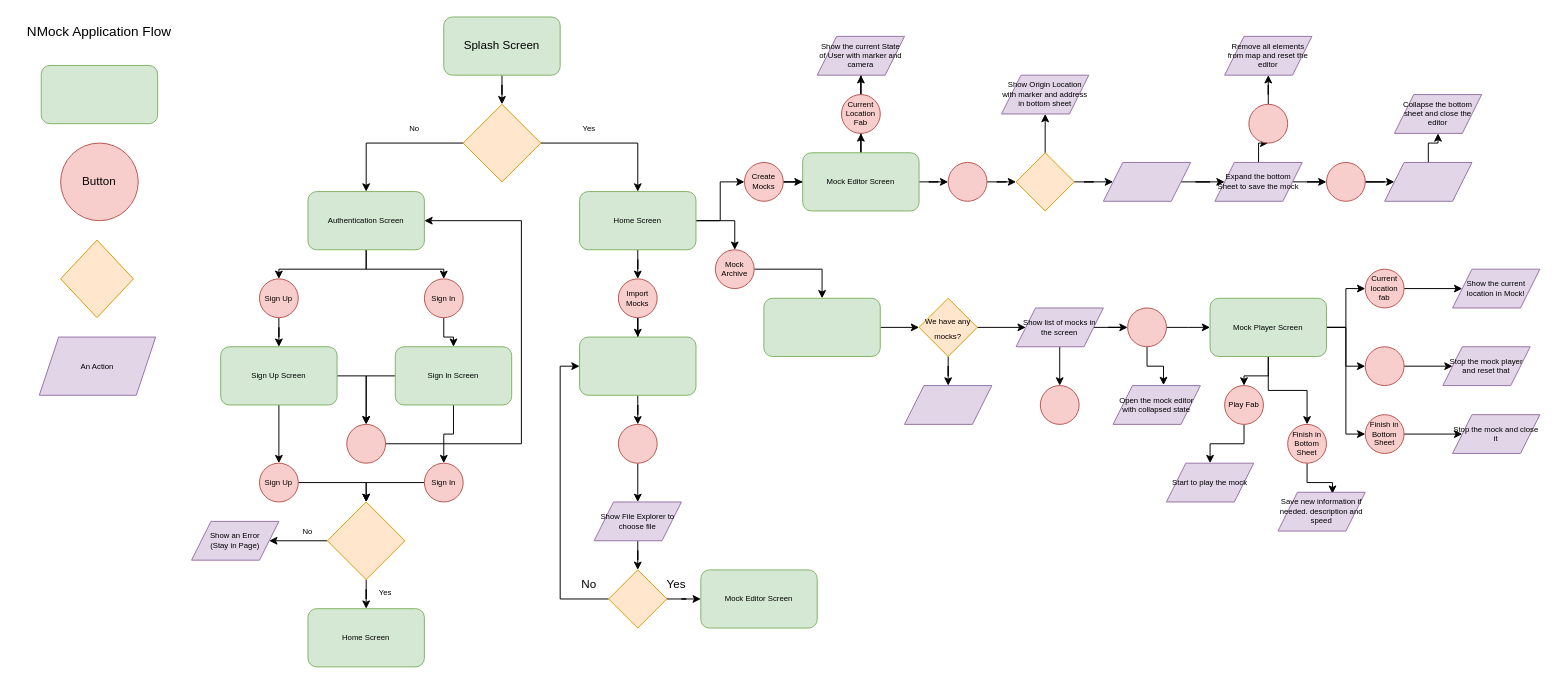
This 1557x684 diagram has some shape labels left out. Each missing label, with the box of its shape:
Back fab: (346, 423, 386, 463)
Click on Cancel: (1248, 103, 1288, 143)
Click on edit button: (1039, 385, 1079, 424)
Click on Save: (1326, 162, 1365, 201)
Click on the item: (1127, 307, 1166, 347)
Conditions: (60, 239, 133, 318)
Do we have right file?: (608, 569, 667, 628)
Import Screen: (579, 336, 696, 395)
Json File: (617, 423, 657, 463)
Long Click on Map: (947, 162, 987, 201)
Mock Archive Screen: (763, 297, 880, 356)
Save informations on database: (1384, 162, 1472, 201)
Screen: (40, 65, 158, 124)
Show destination Location with marker and address in bottom sheet: (1102, 162, 1191, 201)
Show empty state: (904, 385, 992, 424)
Stop fab: (1364, 346, 1404, 386)
User is logged in?: (462, 103, 541, 182)
Validation User infromation: (326, 501, 405, 580)
We Have Origin Location?: (1015, 152, 1074, 211)
